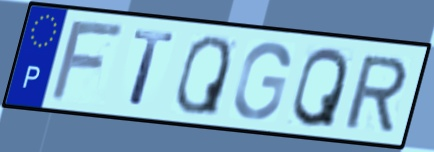F: (46, 20, 128, 103)
G: (231, 40, 293, 122)
Q: (288, 45, 351, 130), (173, 33, 234, 118)
R: (341, 53, 410, 133)
T: (126, 28, 178, 109)
